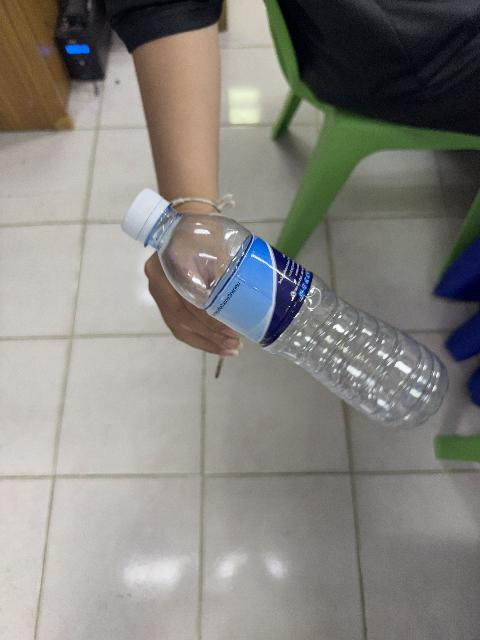bottle: (122, 190, 448, 427)
